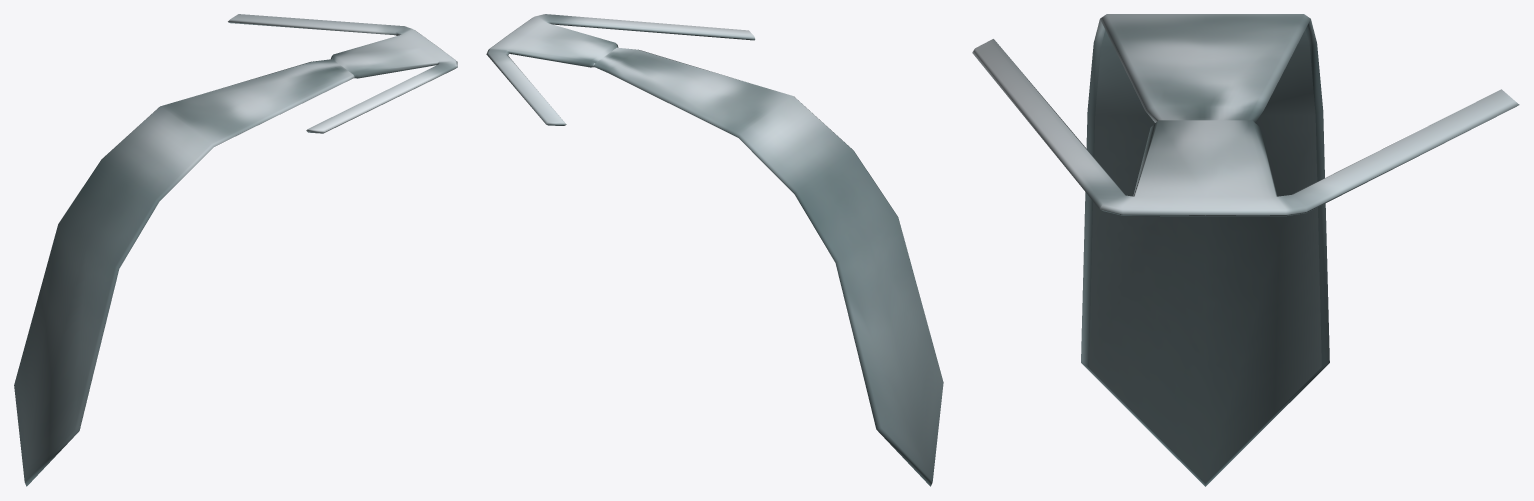
File: PiErSenGongYu_01_lingdai_01.FBX
3 renders of one model, left to right at view 1: azimuth 30°, elevation 25°; view 2: azimuth 150°, elevation 25°; view 3: azimuth 270°, elevation 25°, orthographic. The views are drawn at different scales.
Parts seen in each view (by area): view 1: PiErSenDeGongYu_01_lingdai_01; view 2: PiErSenDeGongYu_01_lingdai_01; view 3: PiErSenDeGongYu_01_lingdai_01.
Part boxes in pixels (<box>): PiErSenDeGongYu_01_lingdai_01: <box>14,14,457,486</box>; PiErSenDeGongYu_01_lingdai_01: <box>486,14,943,486</box>; PiErSenDeGongYu_01_lingdai_01: <box>972,14,1519,486</box>.
Size of the model in its own units: 224 by 180 by 134.
